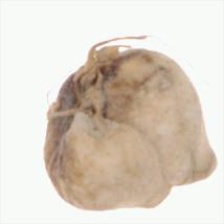L3: (148, 159, 219, 209)
L4: (44, 46, 218, 211)
